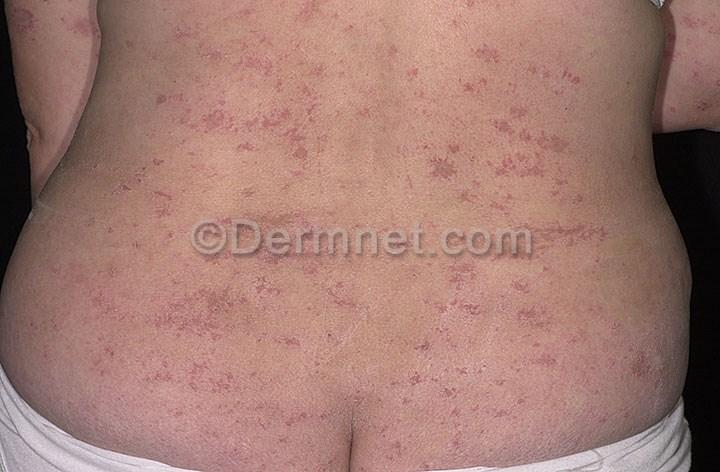Eczema: (148, 66, 365, 194), (464, 38, 620, 189), (165, 267, 283, 357), (140, 362, 268, 438), (32, 251, 144, 325), (407, 326, 477, 415), (425, 259, 516, 319), (517, 286, 582, 346), (409, 122, 467, 184), (620, 344, 676, 395)
